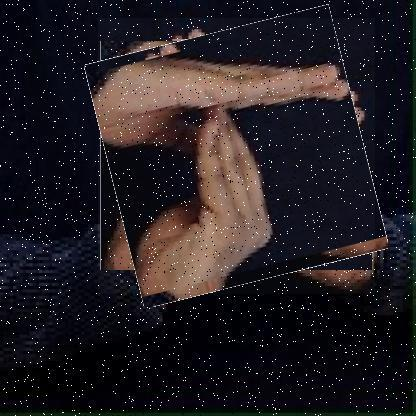Z: (98, 18, 376, 295)
